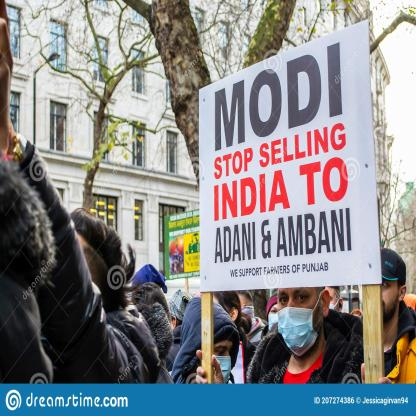BANNER: (198, 20, 383, 296)
